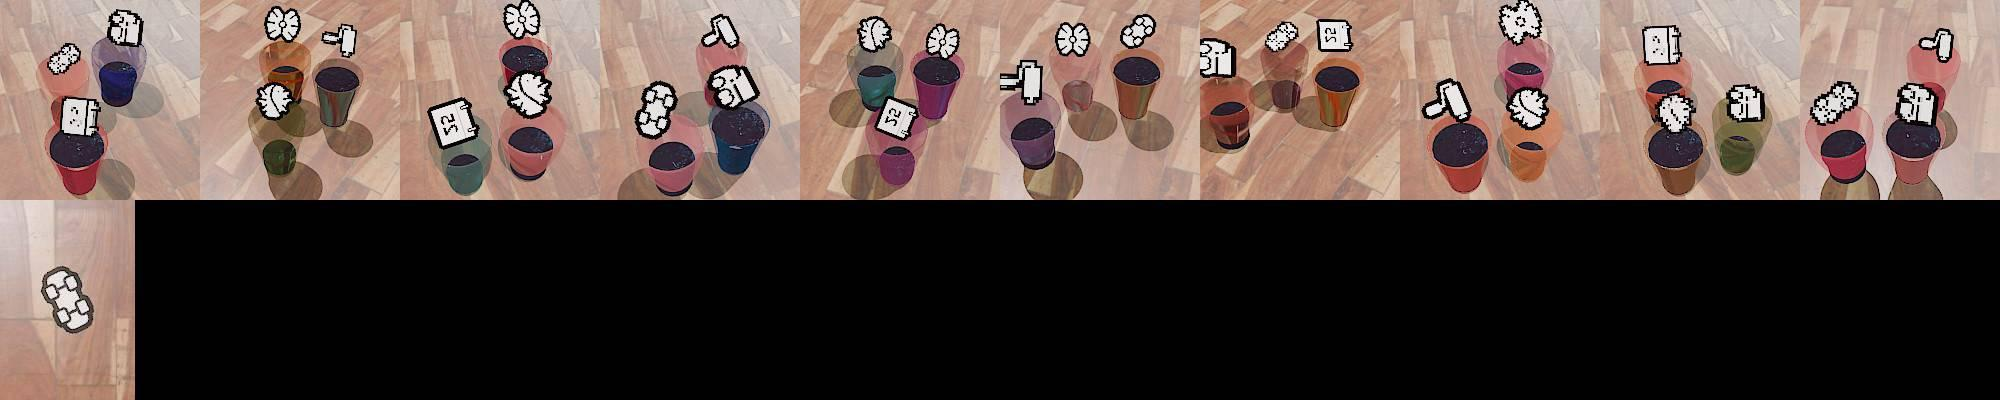icon: (38, 266, 94, 335), (426, 97, 482, 149), (634, 80, 677, 139), (707, 64, 760, 110), (504, 69, 552, 118), (1807, 80, 1858, 126), (1426, 76, 1474, 124), (875, 93, 921, 140), (1497, 0, 1543, 46), (1001, 59, 1045, 106), (1895, 82, 1939, 126), (57, 96, 102, 138), (1505, 87, 1548, 129), (1653, 90, 1696, 132), (1640, 24, 1681, 68), (255, 80, 296, 121), (1726, 83, 1765, 122), (503, 0, 541, 41), (107, 8, 144, 47), (264, 5, 301, 45), (1054, 19, 1091, 59), (1199, 37, 1235, 78), (1120, 13, 1157, 50), (700, 14, 739, 50), (1315, 19, 1352, 55), (1917, 28, 1955, 62), (323, 24, 358, 60), (857, 15, 892, 52), (925, 23, 959, 60), (1264, 20, 1300, 55), (48, 42, 83, 76)
